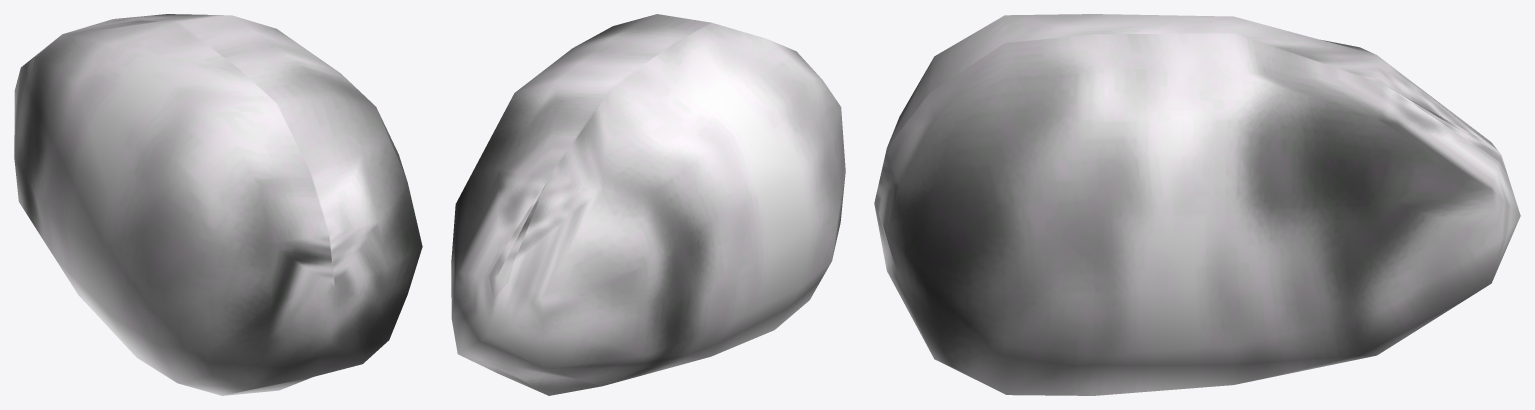
The model's file is pt_geonosian_bolt_l0.fbx.
The picture shows the model from 3 angles, left to right: view 1: azimuth 30°, elevation 25°; view 2: azimuth 150°, elevation 25°; view 3: azimuth 270°, elevation 25°; orthographic projection. The views are drawn at different scales.
Parts seen in each view (by area): view 1: mesh_node; view 2: mesh_node; view 3: mesh_node.
Part boxes in pixels (bbox=[...]): mesh_node: bbox=[14, 14, 422, 395]; mesh_node: bbox=[451, 14, 845, 395]; mesh_node: bbox=[874, 14, 1520, 395].
Bounding box in the file's own units: 3.2 × 3.29 × 5.74.
